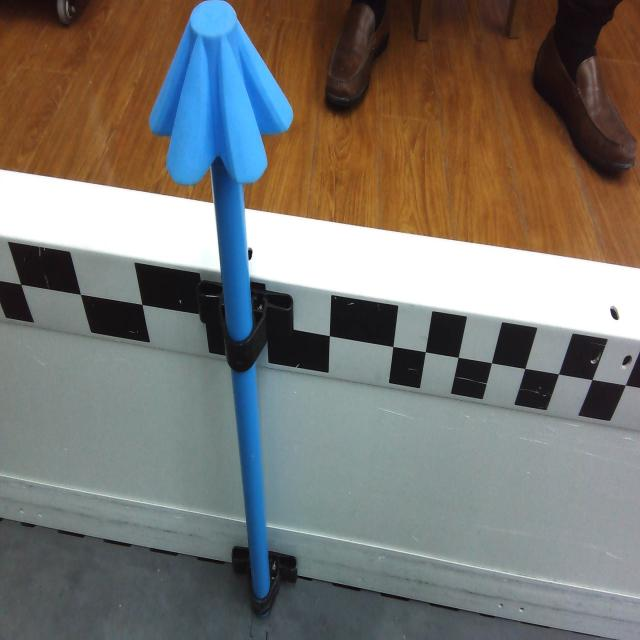zblue-Stake-Head: (149, 0, 294, 186)
